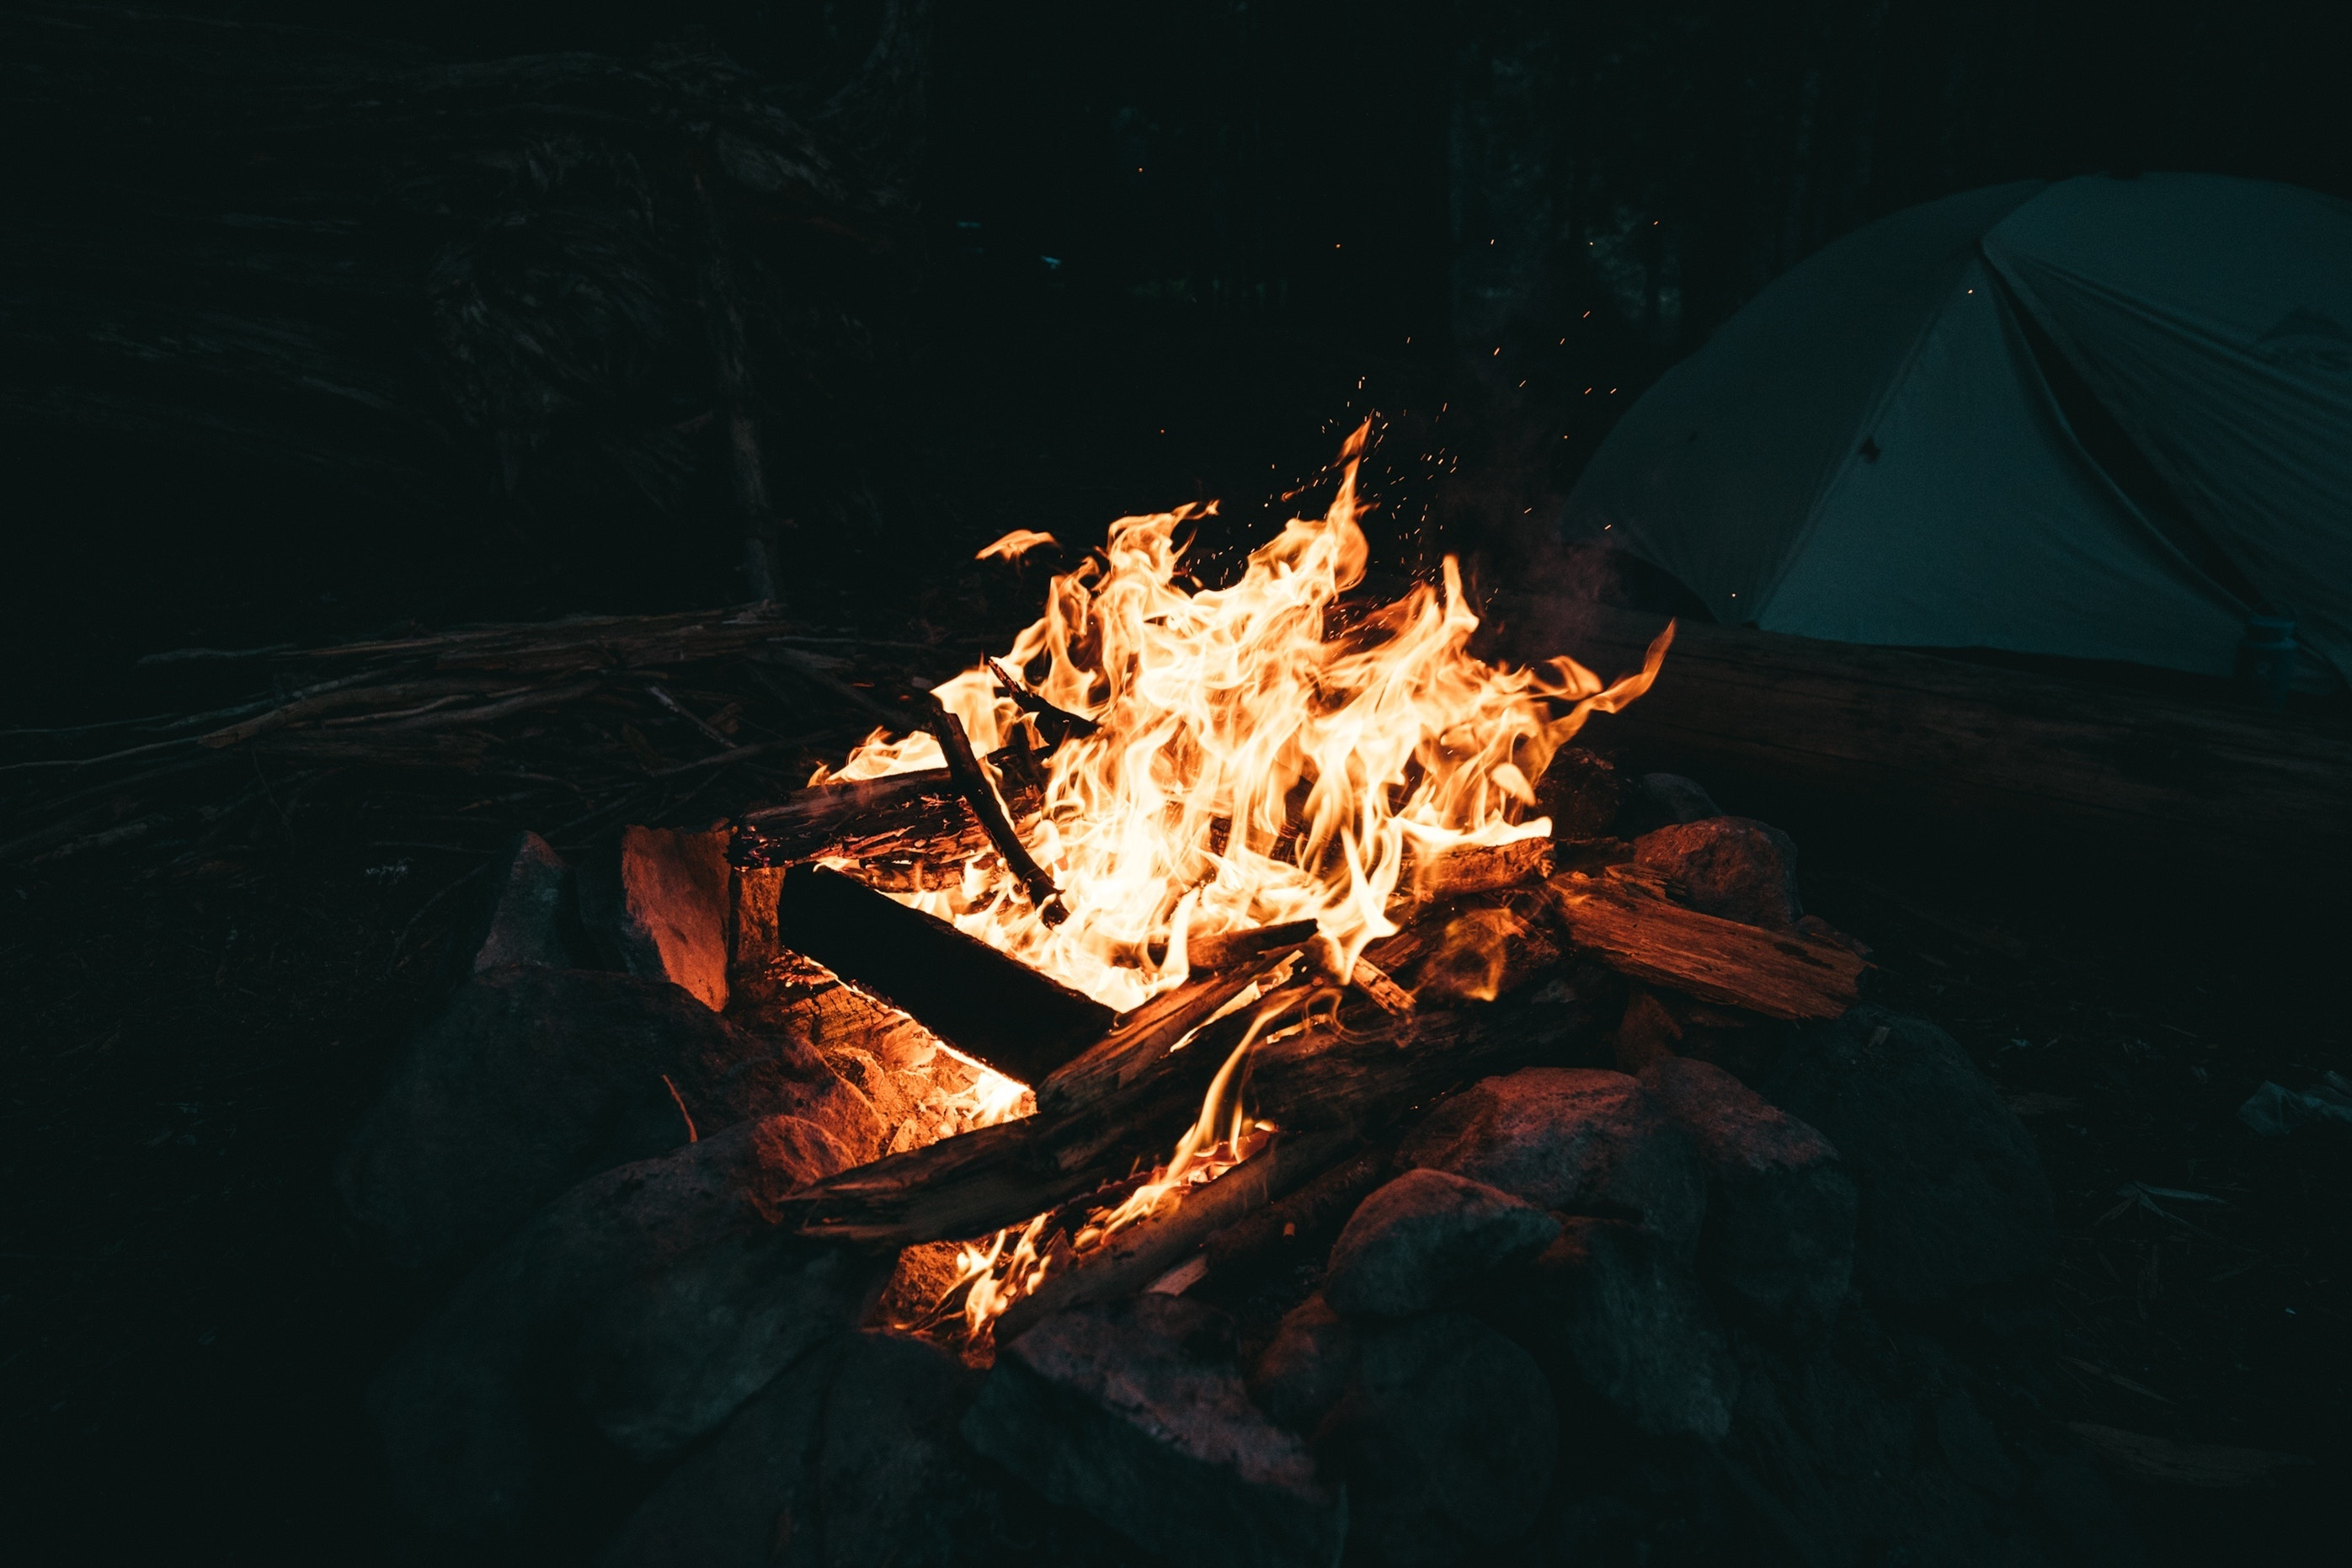fire: (819, 422, 1676, 1003)
